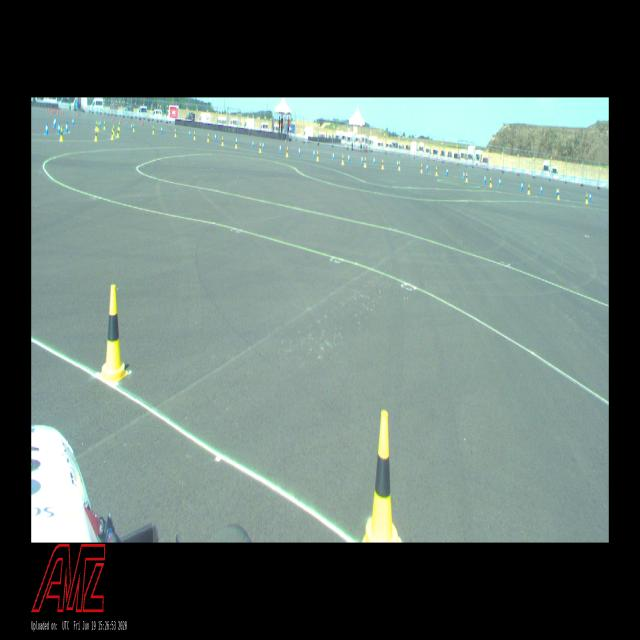blue_cone: (45, 122, 49, 134), (58, 122, 60, 134), (66, 122, 68, 133), (361, 155, 363, 164), (262, 141, 264, 150), (556, 187, 558, 196), (540, 185, 542, 193), (348, 154, 350, 162), (499, 178, 501, 186), (313, 149, 315, 157), (332, 152, 334, 160), (484, 175, 486, 183), (521, 182, 523, 190), (463, 171, 465, 178), (590, 193, 592, 200), (161, 126, 163, 133), (446, 168, 448, 175), (252, 140, 254, 147), (426, 164, 428, 171), (373, 157, 375, 164), (189, 130, 191, 136), (280, 144, 281, 152), (397, 159, 398, 167), (299, 148, 300, 155), (131, 123, 132, 130), (215, 134, 216, 140)
yellow_cone: (362, 410, 401, 542), (100, 285, 128, 386), (60, 128, 64, 142), (94, 129, 98, 141), (489, 177, 492, 186), (174, 128, 177, 136), (558, 189, 560, 199), (112, 129, 114, 139), (528, 184, 530, 193), (342, 155, 344, 164), (286, 147, 288, 156), (398, 161, 400, 170), (117, 128, 119, 137), (586, 194, 588, 202), (260, 143, 262, 151), (382, 160, 384, 168), (235, 140, 237, 148), (207, 134, 209, 141), (364, 158, 366, 165), (133, 124, 135, 131), (317, 151, 318, 161), (466, 173, 467, 182), (421, 164, 422, 173), (436, 167, 437, 175), (222, 137, 223, 145), (104, 121, 105, 129), (153, 126, 154, 133), (194, 132, 195, 138)
